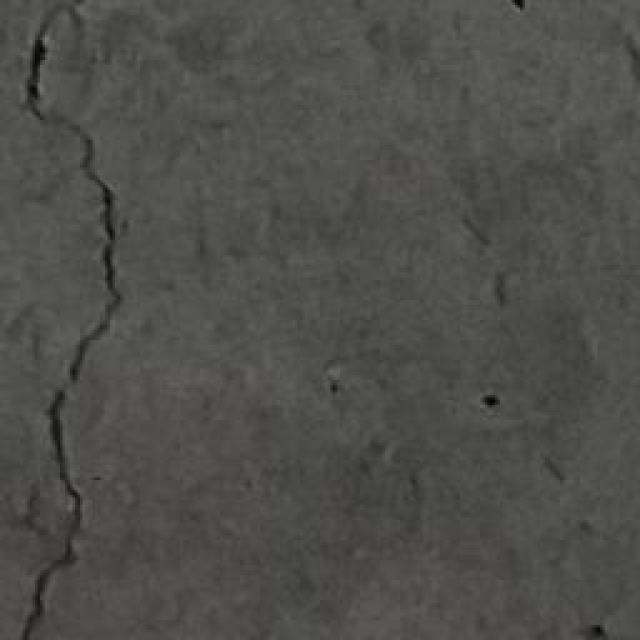Longitudinal: (0, 0, 123, 640)
